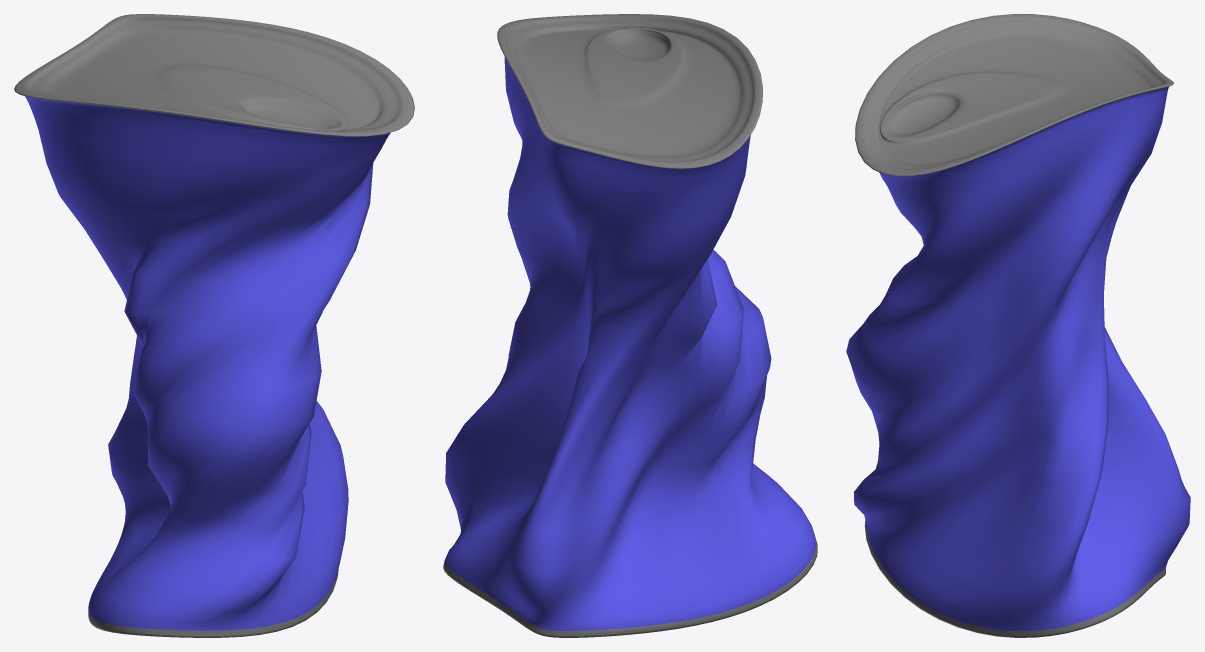
The model's file is Crushed-can.fbx.
The picture shows the model from 3 angles, left to right: view 1: azimuth 30°, elevation 25°; view 2: azimuth 150°, elevation 25°; view 3: azimuth 270°, elevation 25°; orthographic projection. The views are drawn at different scales.
Parts seen in each view (by area): view 1: Cylinder.001; view 2: Cylinder.001; view 3: Cylinder.001.
Boxes of the visible parts, x1=… form: Cylinder.001: x1=14, y1=14, x2=414, y2=637; Cylinder.001: x1=443, y1=14, x2=817, y2=637; Cylinder.001: x1=846, y1=14, x2=1190, y2=637.
Bounding box in the file's own units: 6.33 × 10.48 × 6.4.
